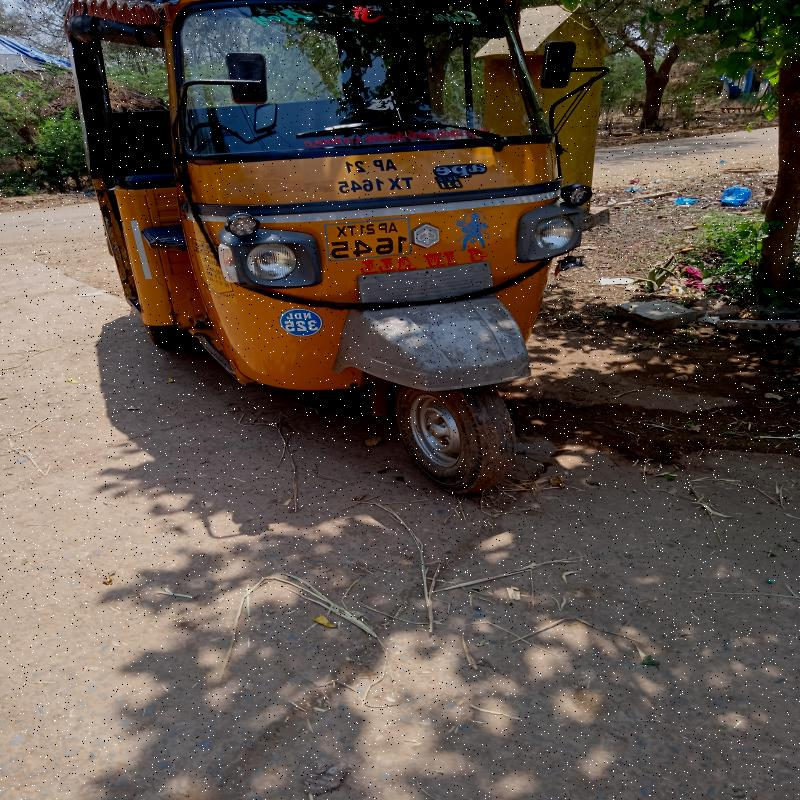auto: (107, 87, 576, 444)
